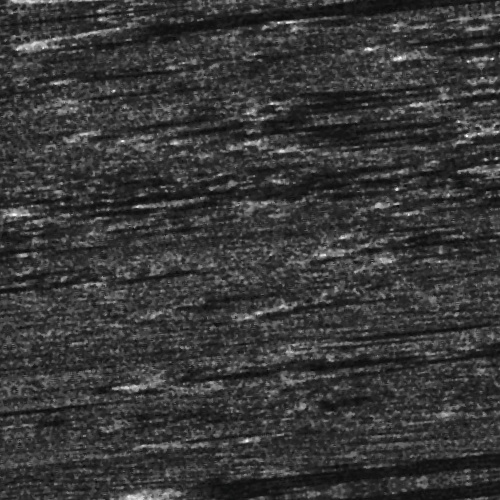object: (357, 110, 500, 129), (20, 7, 125, 30), (70, 475, 195, 488), (259, 144, 374, 157), (281, 18, 374, 29), (0, 179, 91, 190), (389, 68, 472, 77), (231, 135, 314, 144), (0, 190, 103, 197), (167, 129, 260, 136), (252, 112, 315, 121), (377, 54, 440, 63), (241, 305, 304, 314), (79, 111, 152, 116), (138, 425, 169, 436), (454, 152, 500, 159), (301, 344, 364, 349), (116, 364, 127, 377), (431, 42, 472, 45), (487, 185, 500, 194), (73, 58, 104, 61)
shadow: (73, 7, 485, 30), (18, 179, 460, 190), (133, 475, 500, 488), (122, 364, 376, 377), (327, 18, 500, 29), (317, 144, 451, 157), (153, 425, 282, 436), (213, 129, 387, 136), (284, 112, 418, 121), (273, 135, 405, 144), (273, 305, 404, 314), (440, 110, 500, 129), (332, 344, 500, 349), (409, 54, 500, 63), (431, 68, 500, 77), (51, 190, 132, 197), (115, 111, 199, 116), (0, 382, 83, 387), (89, 58, 215, 61), (0, 257, 36, 266), (0, 123, 13, 136), (452, 42, 499, 45), (0, 107, 14, 114)
